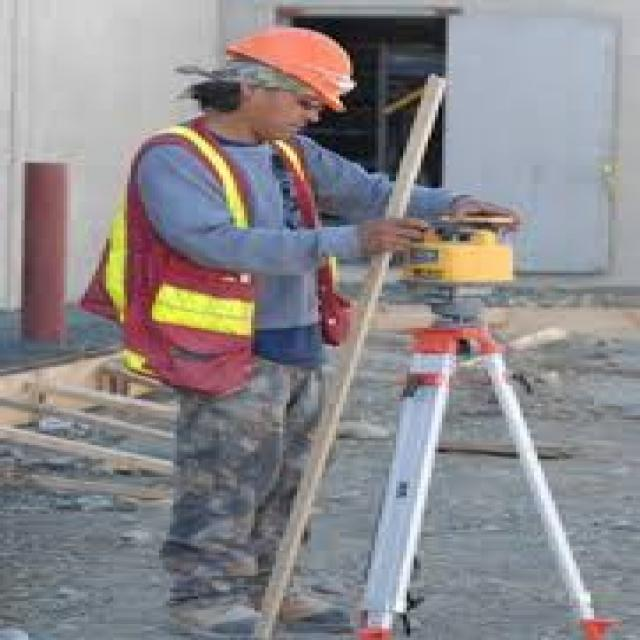Reflective-Jacket: (81, 122, 361, 399)
Safety-Helmet: (198, 18, 378, 115)
